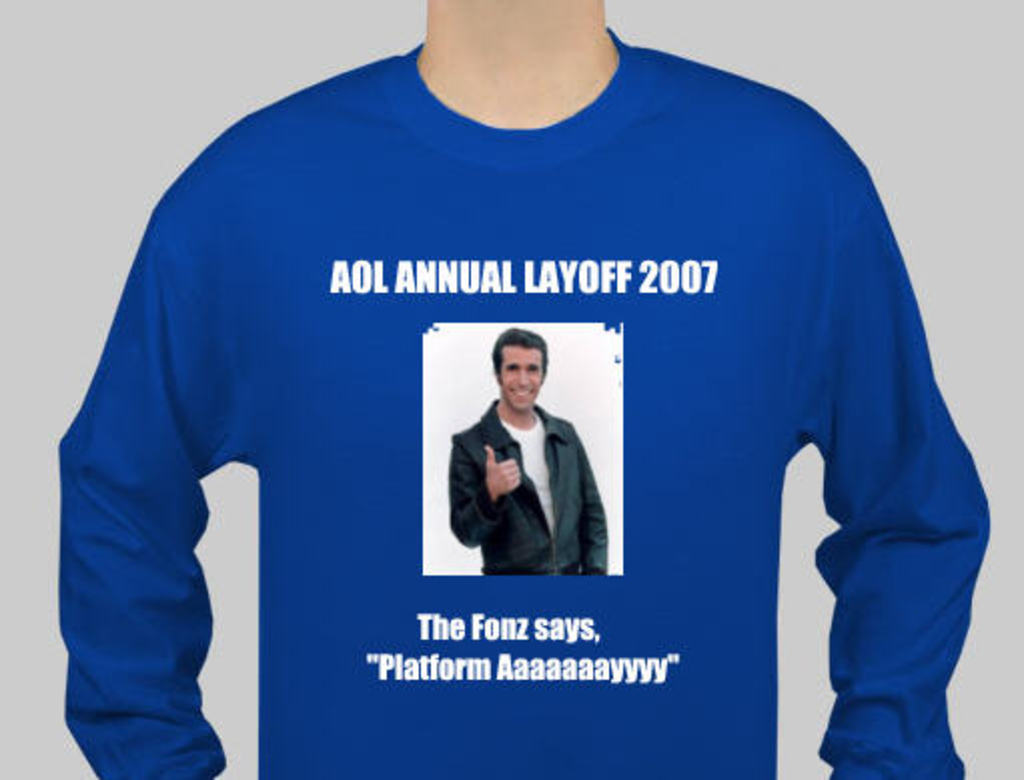person: (446, 325, 612, 575)
